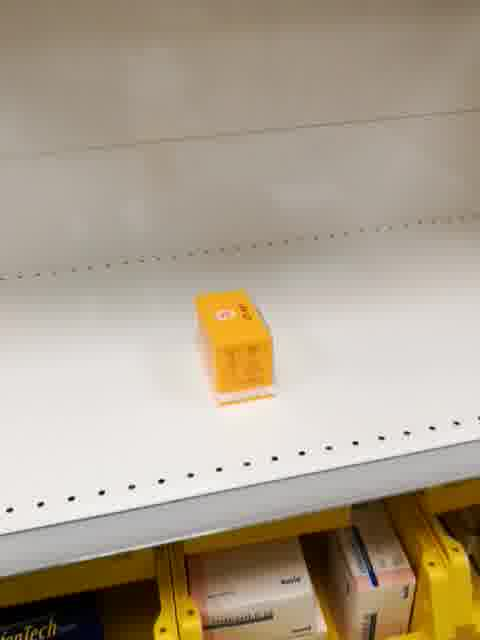jasminetea: (194, 288, 276, 408)
